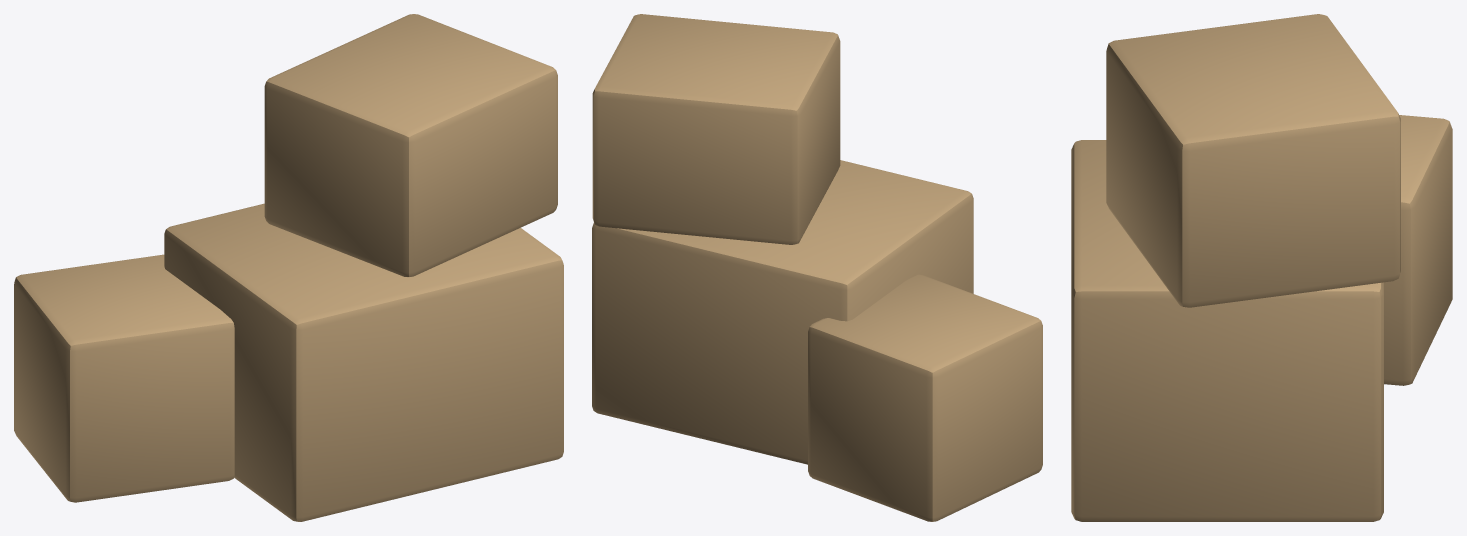
Rendered from caixas_papelao.glb.
3 views of the same model, side by side, from view 1: azimuth 30°, elevation 25°; view 2: azimuth 150°, elevation 25°; view 3: azimuth 270°, elevation 25° (orthographic). The views are drawn at different scales.
Parts seen in each view (by area): view 1: Cube; view 2: Cube; view 3: Cube.
Part boxes in pixels (bbox=[...]): Cube: bbox=[14, 14, 563, 521]; Cube: bbox=[592, 14, 1042, 521]; Cube: bbox=[1071, 14, 1452, 521].
Size of the model in its own units: 1.18 by 0.86 by 0.7318.
